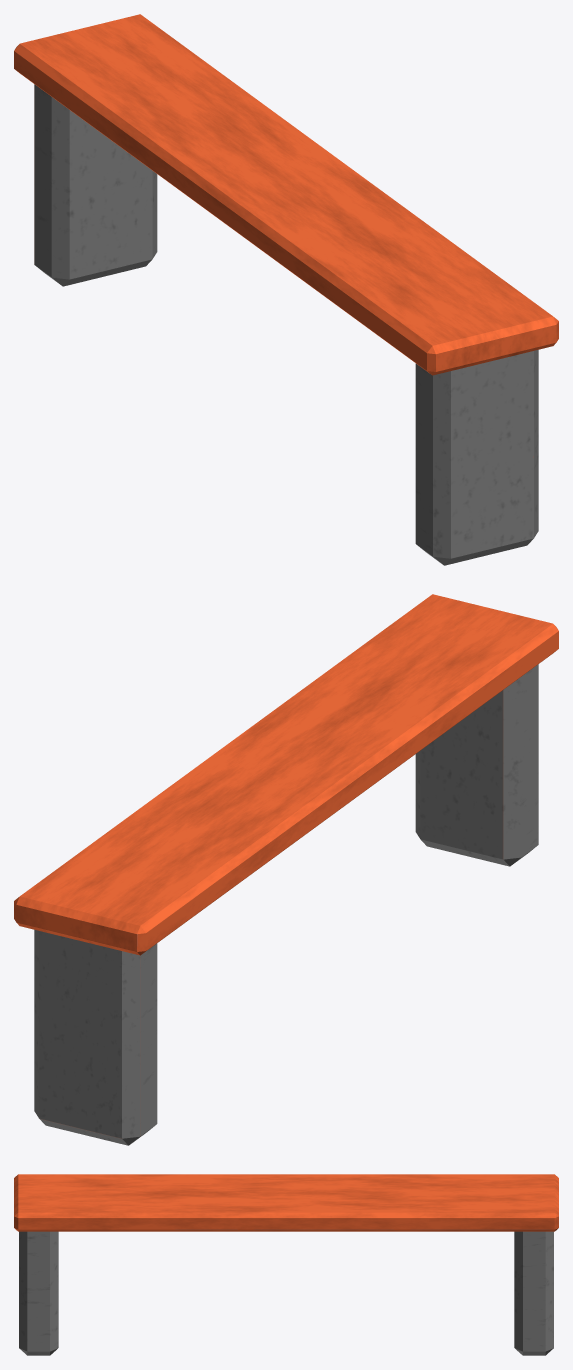
Rendered from Bench Colored (1).fbx.
The picture shows the model from 3 angles, top to bottom: view 1: azimuth 30°, elevation 25°; view 2: azimuth 150°, elevation 25°; view 3: azimuth 270°, elevation 25°; orthographic projection. The views are drawn at different scales.
Parts seen in each view (by area): view 1: Cube.007; view 2: Cube.007; view 3: Cube.007.
Part boxes in pixels (x1,y1,x2,y2): Cube.007: (14,14,558,565); Cube.007: (14,594,558,1145); Cube.007: (14,1174,558,1355).
Size of the model in its own units: 200 by 332 by 1100.
Materials: 1 (1 with a texture image).
